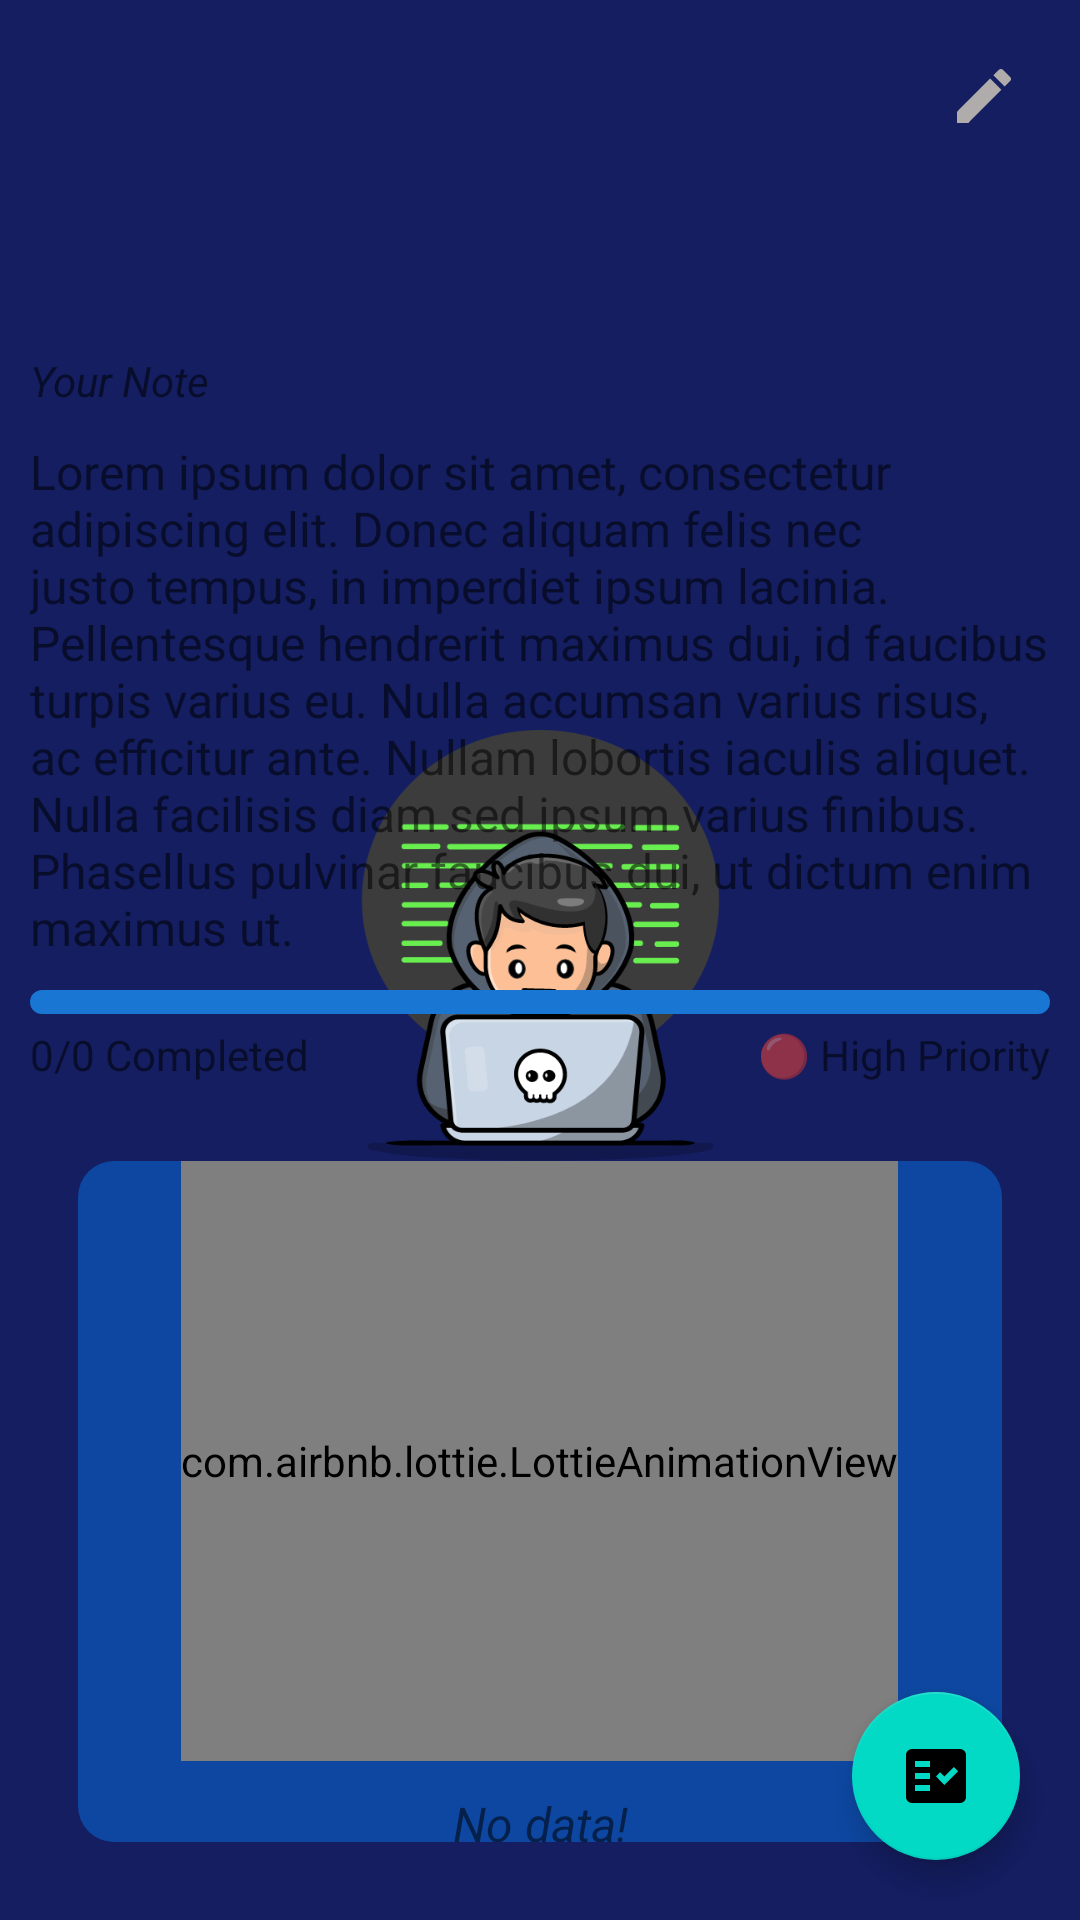

Icons on this 1080×1920 Android screen, each with the point to tap as (x,y):
edit: (984,96)
todo: (936,1776)
